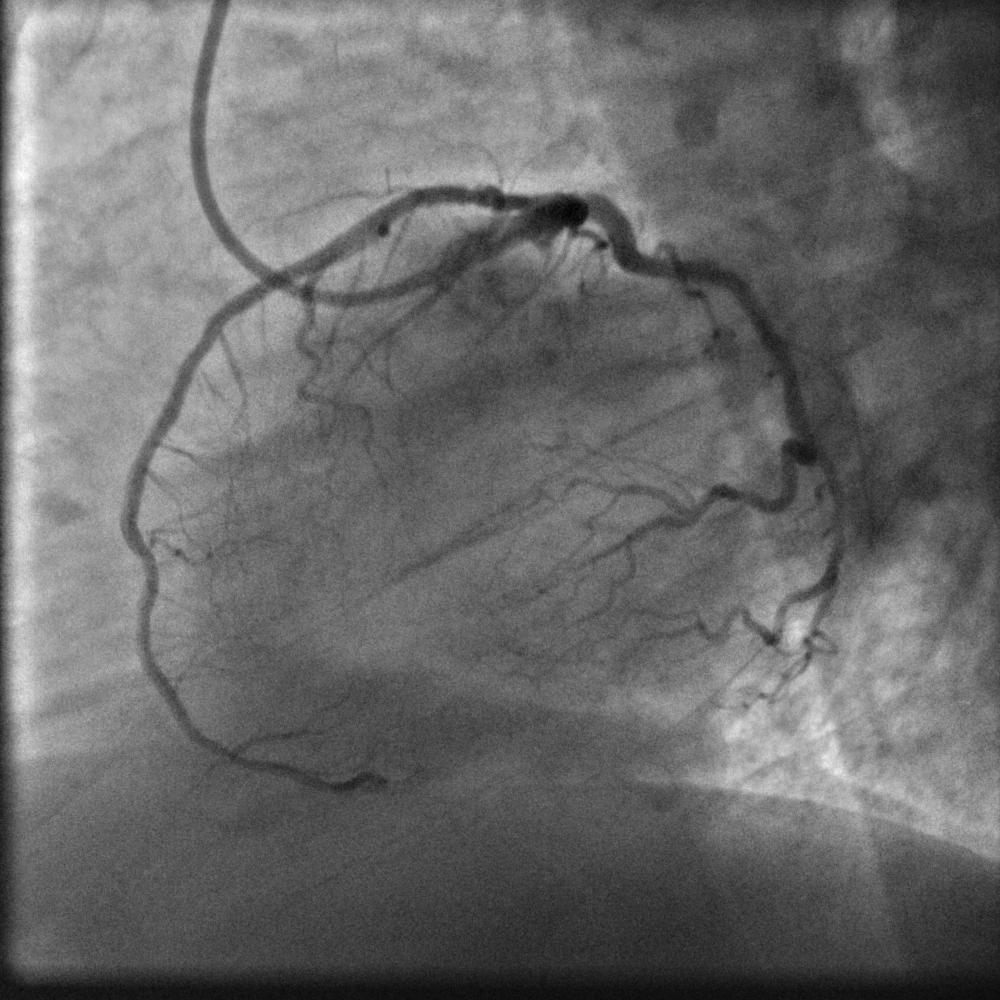Stenosis: (459, 180, 493, 209)
